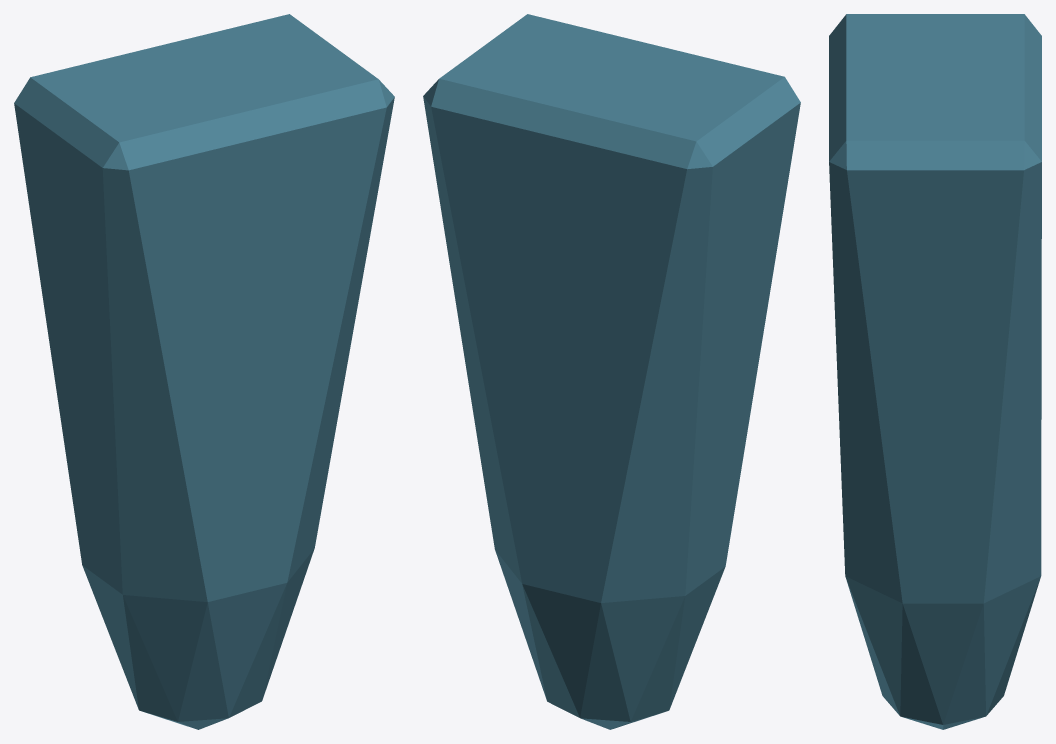
Rendered from SM_LP_RefinedMineral_5.fbx.
3 renders of one model, left to right at view 1: azimuth 30°, elevation 25°; view 2: azimuth 150°, elevation 25°; view 3: azimuth 270°, elevation 25°, orthographic.
Visible parts, largest first — view 1: SM_LP_RefinedMineral_5; view 2: SM_LP_RefinedMineral_5; view 3: SM_LP_RefinedMineral_5.
Part boxes in pixels (left/top/right/bottom): SM_LP_RefinedMineral_5: left=14, top=14, right=394, bottom=729; SM_LP_RefinedMineral_5: left=423, top=14, right=800, bottom=729; SM_LP_RefinedMineral_5: left=829, top=14, right=1041, bottom=729.
Size of the model in its own units: 0.2479 by 0.5303 by 0.1566.
